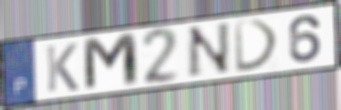2: (140, 24, 181, 91)
6: (287, 13, 324, 65)
D: (232, 18, 282, 75)
K: (43, 41, 80, 94)
M: (80, 30, 142, 94)
N: (184, 21, 233, 81)
